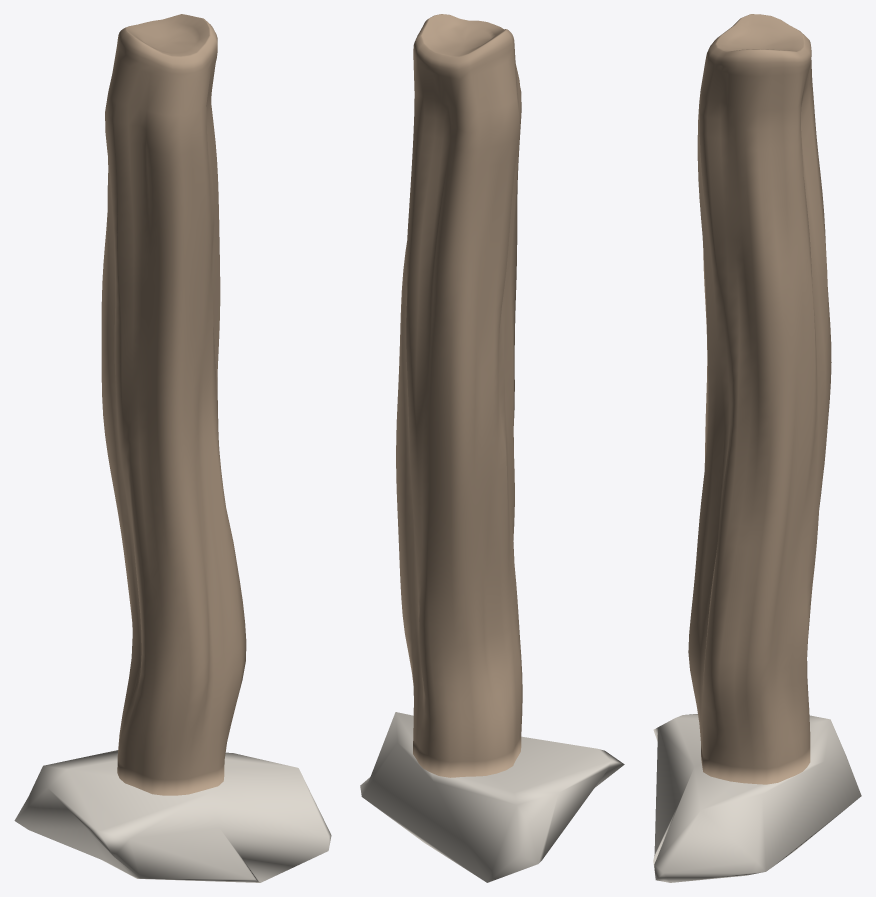
File: bagana-f3-3x10x3-v2.glb
3 views of the same model, side by side, from view 1: azimuth 30°, elevation 25°; view 2: azimuth 150°, elevation 25°; view 3: azimuth 270°, elevation 25° (orthographic).
Parts seen in each view (by area): view 1: bagana_wood, bagana_stone; view 2: bagana_wood, bagana_stone; view 3: bagana_wood, bagana_stone.
Boxes of the visible parts, x1=… form: bagana_wood: x1=101, y1=14, x2=246, y2=795; bagana_stone: x1=14, y1=750, x2=331, y2=882; bagana_wood: x1=396, y1=14, x2=522, y2=777; bagana_stone: x1=360, y1=712, x2=624, y2=882; bagana_wood: x1=688, y1=14, x2=831, y2=784; bagana_stone: x1=653, y1=714, x2=861, y2=882.
Bounding box in the file's own units: 0.7206 × 2.49 × 0.579.
